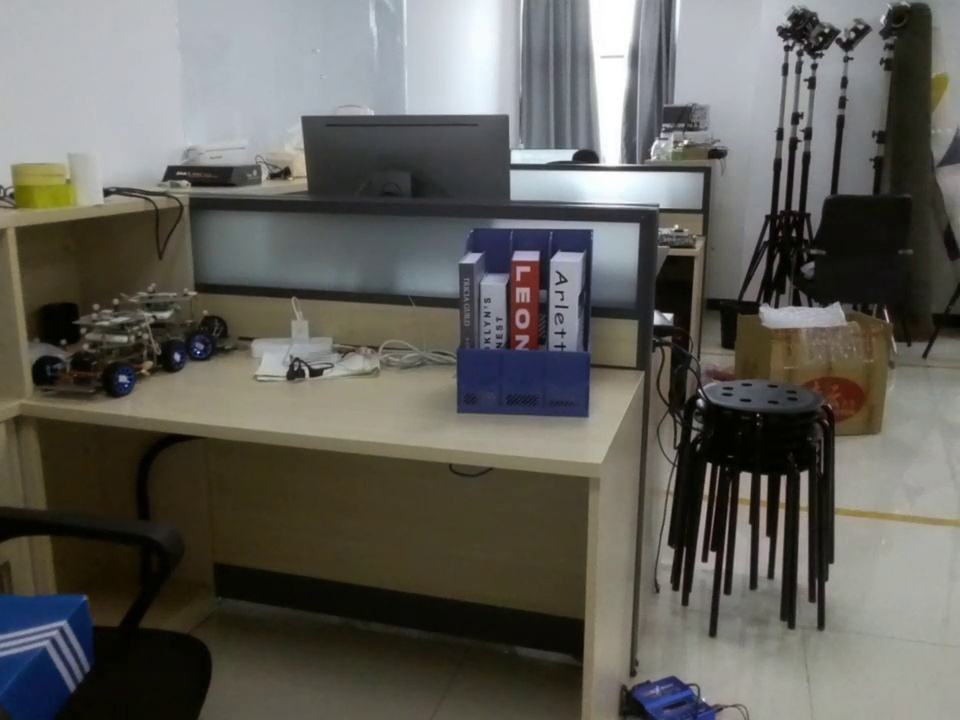files: (453, 228, 598, 418)
